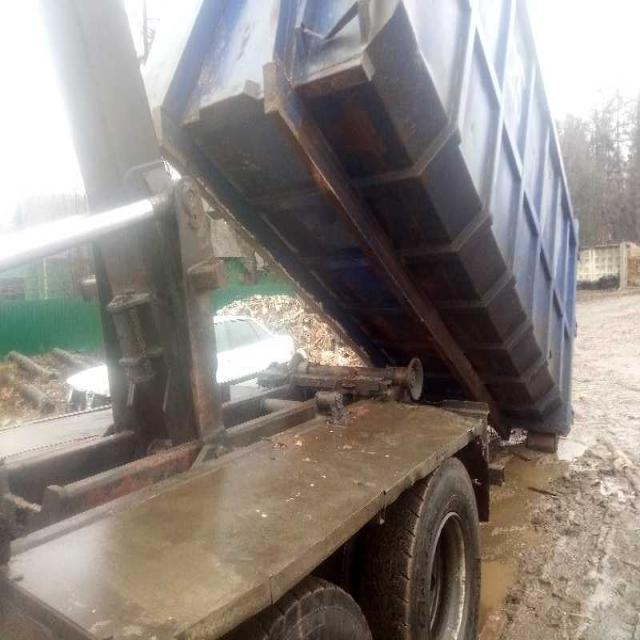Dumpster: (143, 0, 577, 432)
